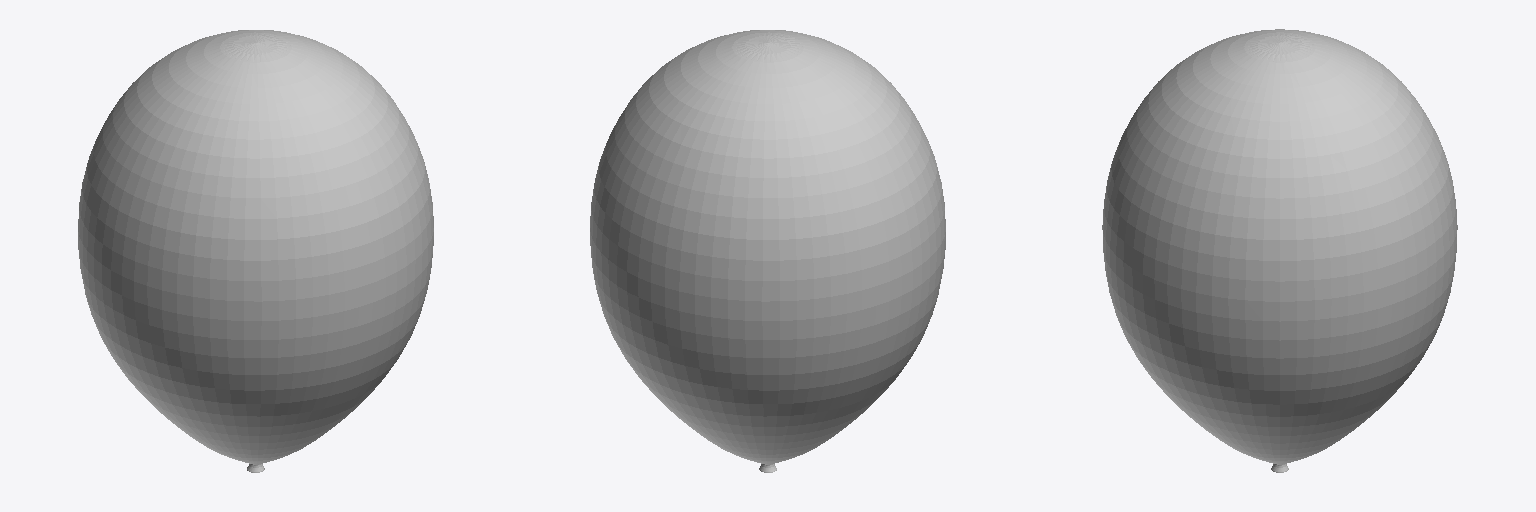
File: Globo17.obj
3 renders of one model, left to right at view 1: azimuth 30°, elevation 25°; view 2: azimuth 150°, elevation 25°; view 3: azimuth 270°, elevation 25°, orthographic.
Visible parts, largest first — view 1: Sphere.008; view 2: Sphere.008; view 3: Sphere.008.
Boxes of the visible parts, <box> form: Sphere.008: <box>78,30,433,472</box>; Sphere.008: <box>590,30,945,472</box>; Sphere.008: <box>1102,29,1457,472</box>.
Bounding box in the file's own units: 0.5211 × 0.688 × 0.519.